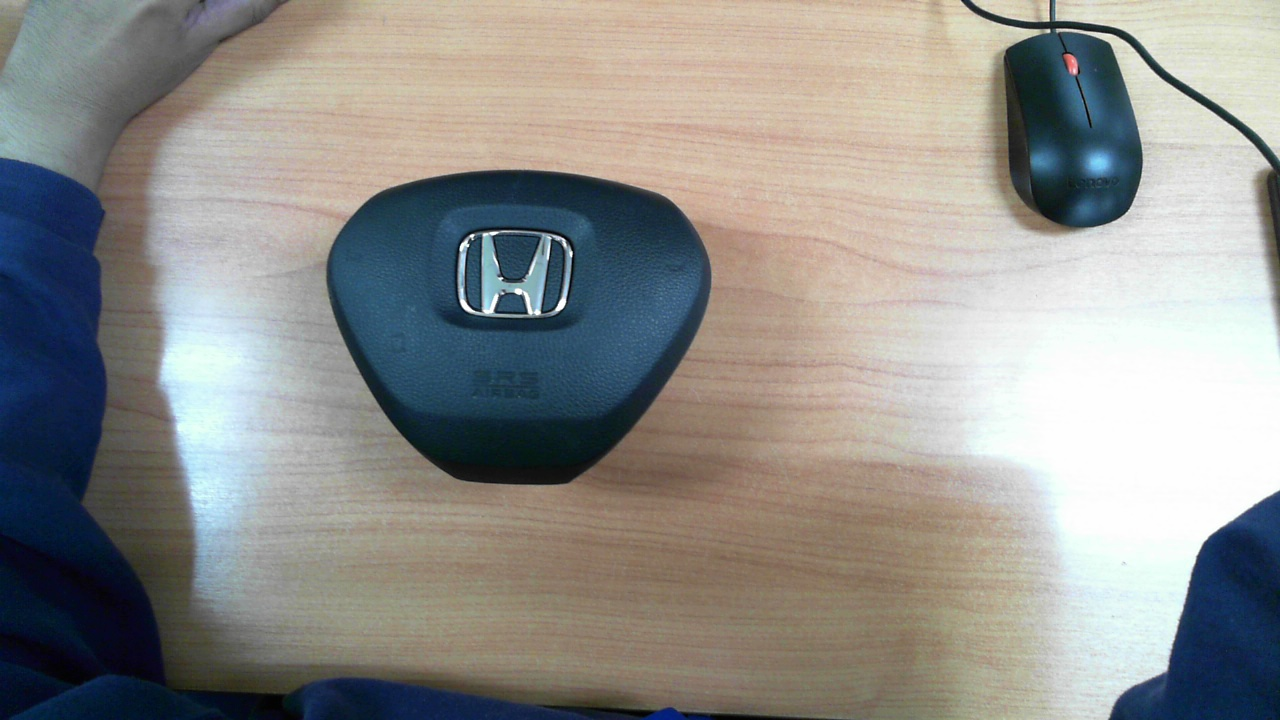Airbag: (326, 171, 710, 484)
